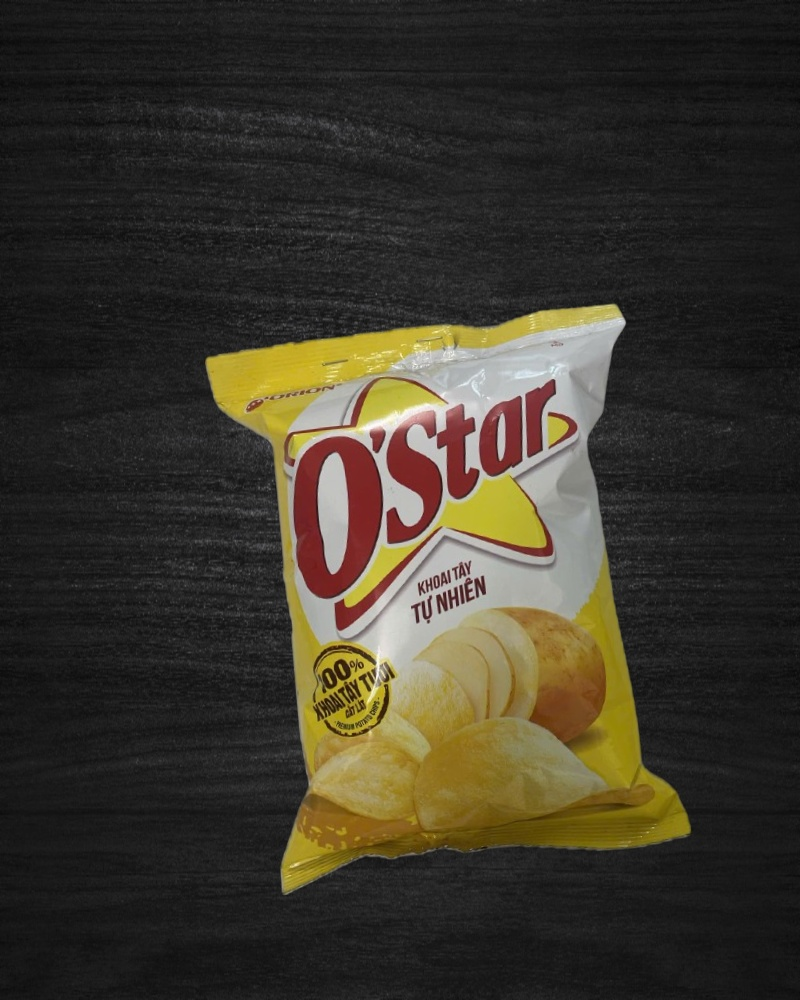O'star: (205, 301, 694, 898)
